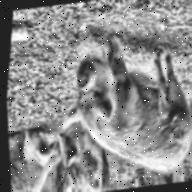boar: (57, 25, 192, 176), (3, 116, 73, 192), (33, 140, 114, 192)
